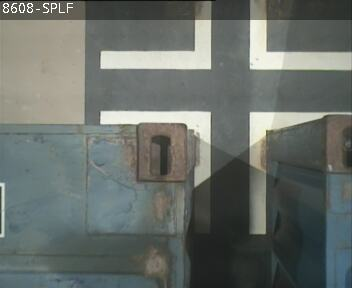groundmarker_1: (99, 110, 351, 234), (99, 1, 352, 70)
